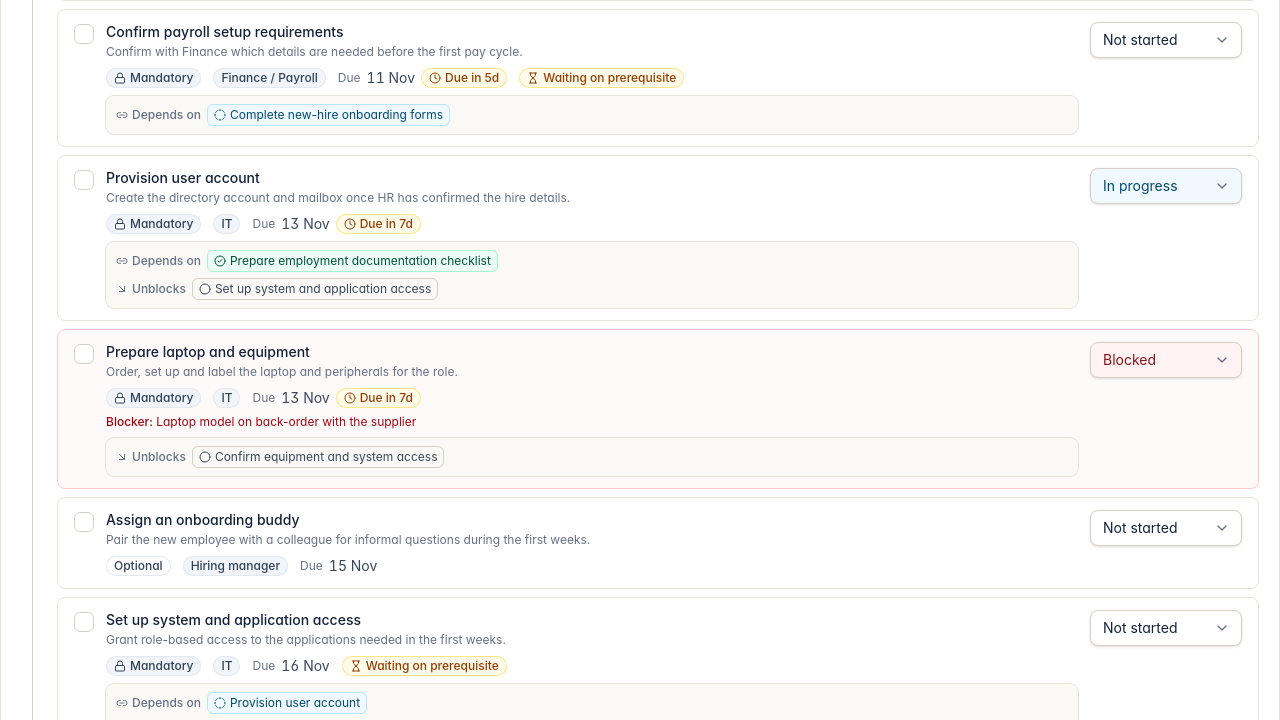
Scenario: CaseDetailView › updates readiness when the blocker is resolved
(page scrolled)
Select "Completed" in the dropdown named "Status for" at (1166,360), box [1090,342,1242,378]
(page scrolled)
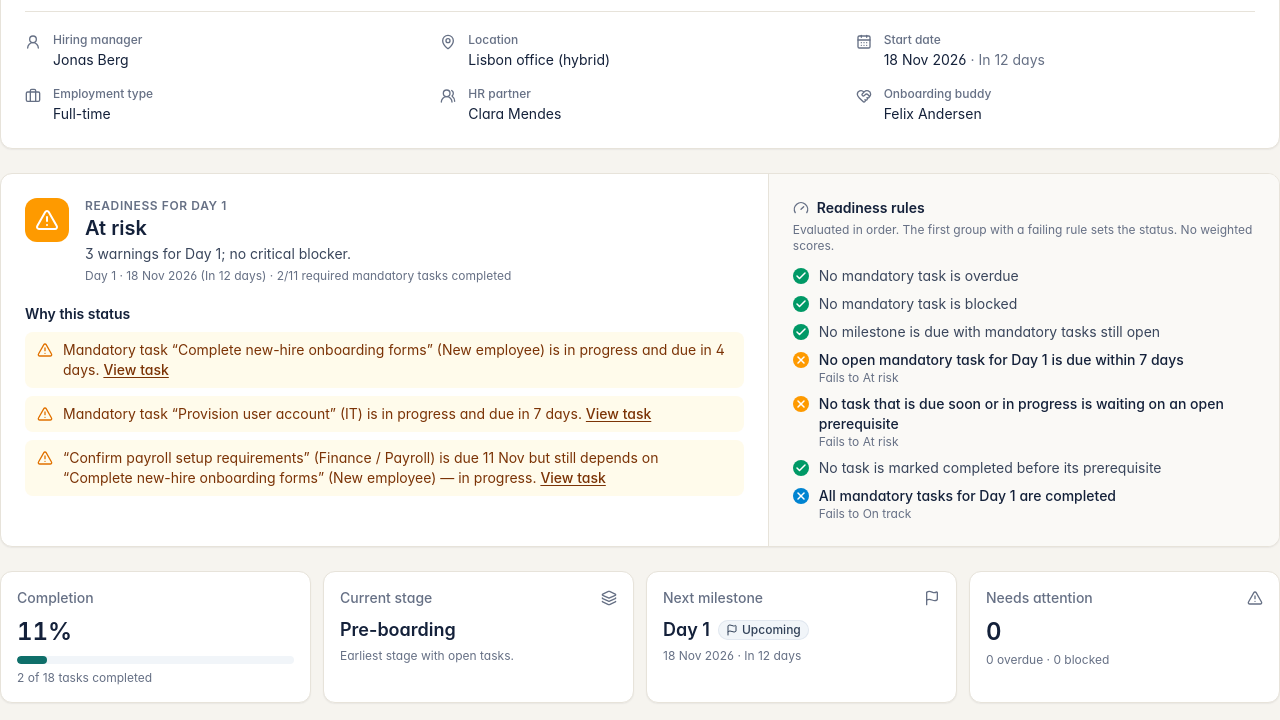
Check: the element "At risk" is shown, box [0,173,1279,547]
